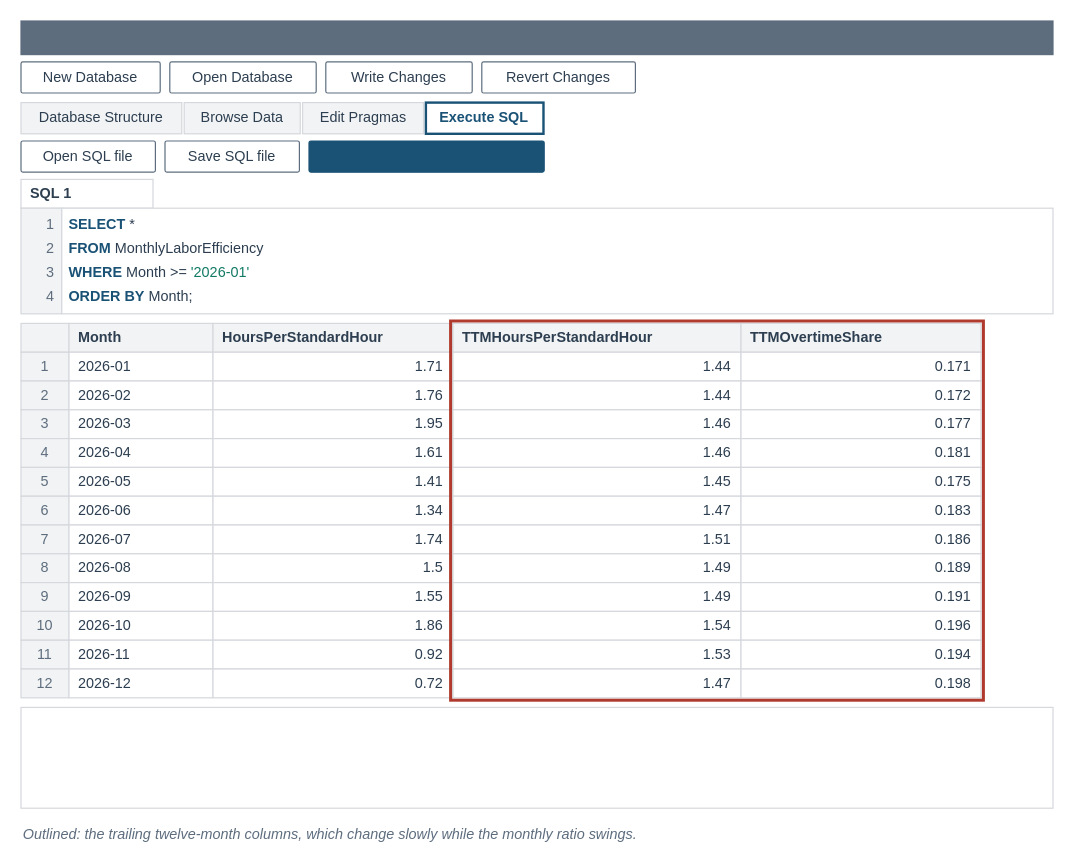
Image size: 1074x868. Some labels were removed from this diagram. Here are the shapes that lost their labels. From the top down, the centre of each, then its label:
At pixel 536 37: "DB Browser for SQLite - CharlesRiver_Work.sqlite".
At pixel 426 156: "▶ Execute all/selected SQL".
At pixel 536 757: "Execution finished without errors. Result: 12 rows returned At line 1: SELECT *".
